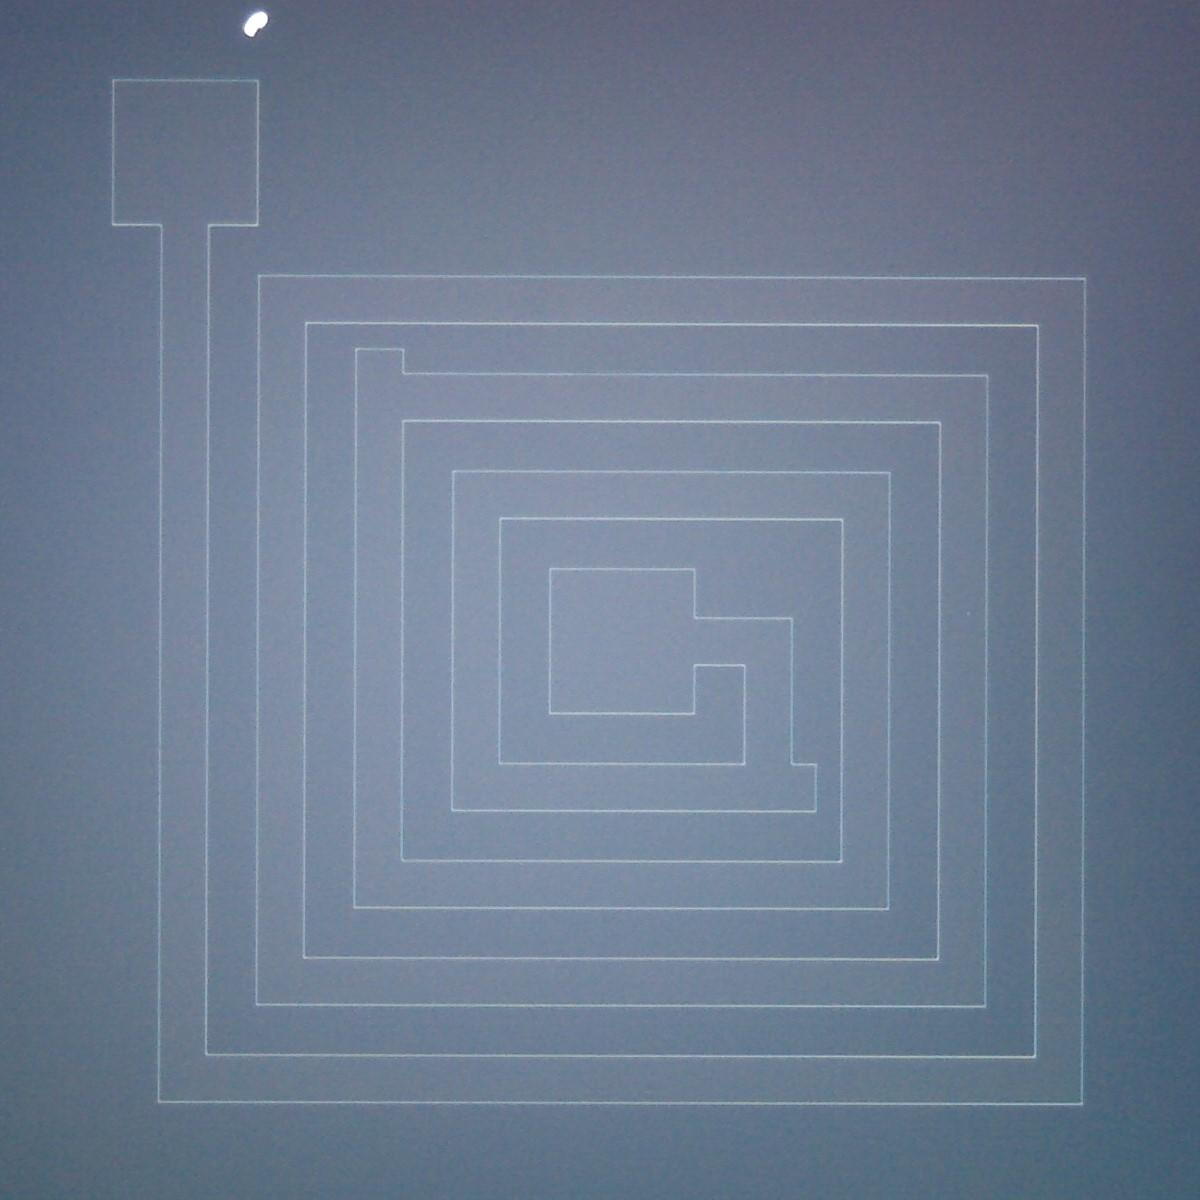B_point: (244, 11, 268, 37)
project: (729, 733, 827, 824), (344, 340, 432, 438)
